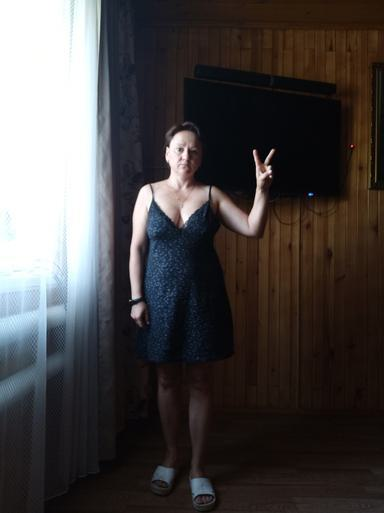peace: (251, 147, 277, 187)
